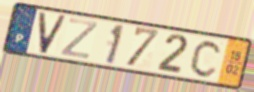1: (105, 23, 126, 67)
2: (156, 34, 191, 76)
7: (124, 25, 161, 69)
C: (188, 39, 225, 79)
V: (38, 11, 69, 56)
Z: (58, 17, 100, 61)
